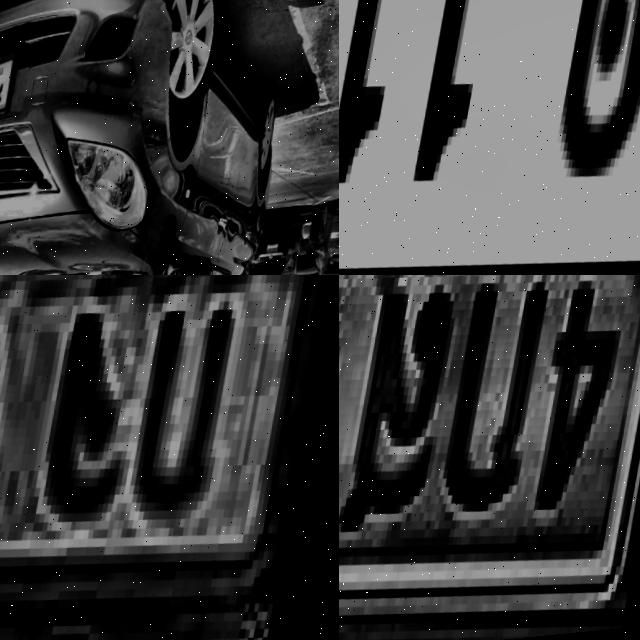license-plate: (0, 275, 339, 640), (339, 275, 640, 640), (339, 0, 640, 275), (0, 40, 27, 140)
